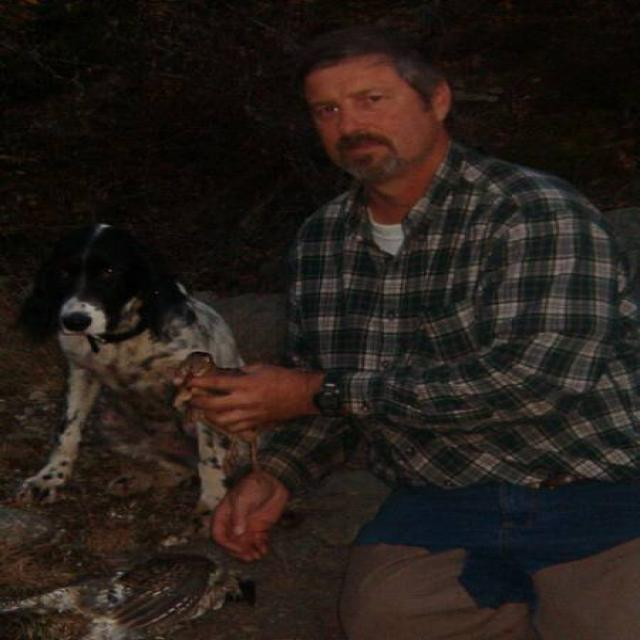People: (237, 17, 640, 627)
dog: (41, 220, 235, 502)
